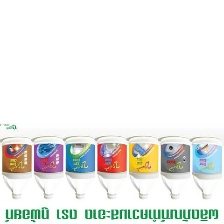cleaning_solution: (61, 133, 98, 201), (188, 134, 224, 202), (157, 134, 193, 200), (126, 134, 161, 201), (95, 133, 129, 200), (0, 135, 34, 202), (32, 134, 66, 200)
